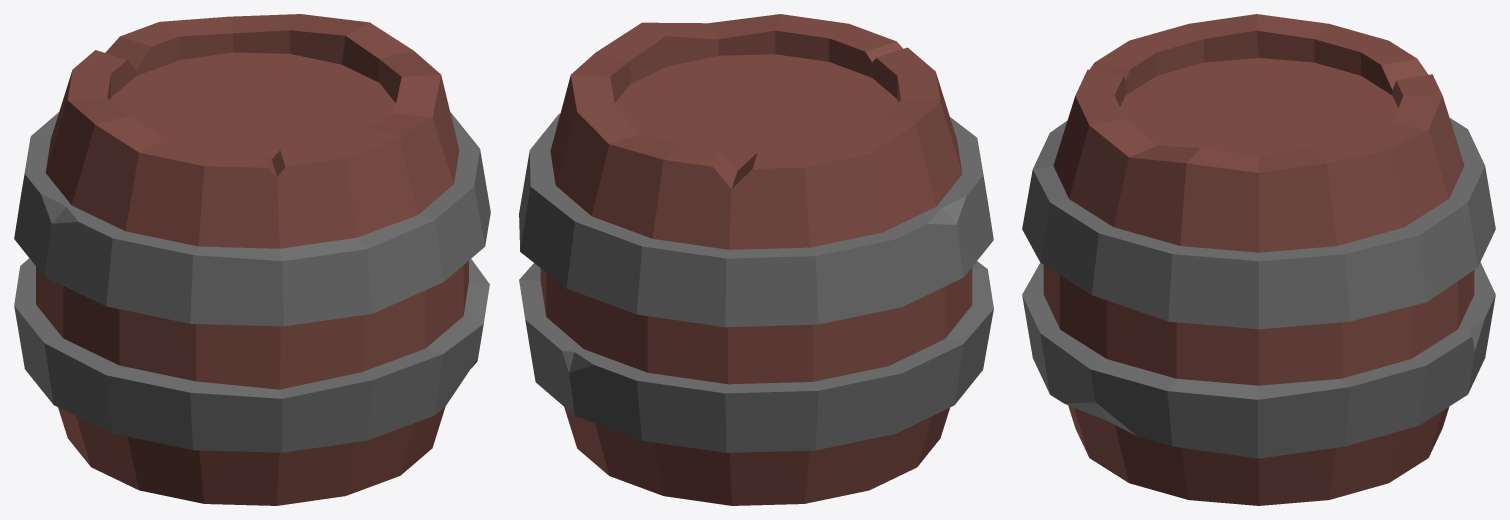
File: barrel.fbx
3 views of the same model, side by side, from view 1: azimuth 30°, elevation 25°; view 2: azimuth 150°, elevation 25°; view 3: azimuth 270°, elevation 25° (orthographic).
Parts seen in each view (by area): view 1: Cylinder; view 2: Cylinder; view 3: Cylinder.
Boxes of the visible parts, left/top/right/bottom form: Cylinder: left=14, top=14, right=490, bottom=505; Cylinder: left=519, top=14, right=993, bottom=505; Cylinder: left=1022, top=14, right=1495, bottom=505.
Bounding box in the file's own units: 259 × 203 × 258.
